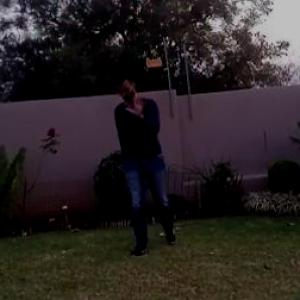follow_hand: (122, 88, 148, 119)
